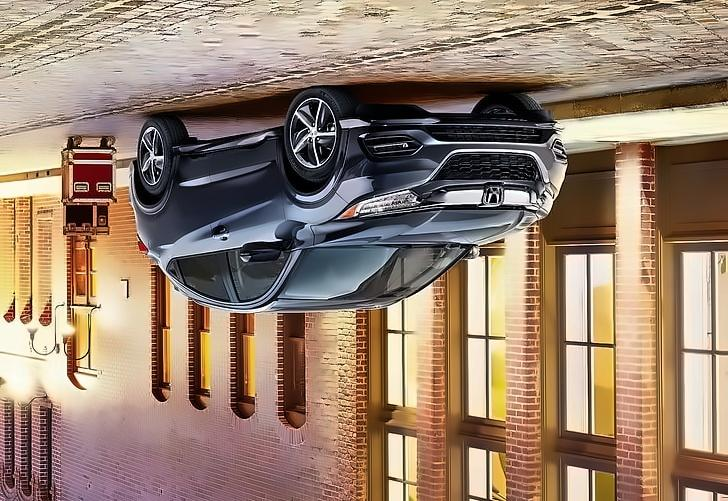Car hood: (311, 203, 537, 250)
Fender - -F-L-: (276, 124, 352, 254)
Fender - -R-L-: (140, 199, 168, 260)
Front bumper: (334, 109, 573, 193)
Headlight - -L-: (325, 186, 426, 226)
Headlight - -R-: (534, 186, 558, 224)
Passenger-s door - -F-L-: (210, 145, 285, 311)
Passenger-s door - -R-L-: (153, 155, 221, 303)
Rear bumper: (113, 155, 145, 228)
Rear light - -L-: (128, 225, 151, 263)
Side bumper - -L-: (162, 125, 284, 160)
Side mirror - -L-: (235, 235, 286, 268)
